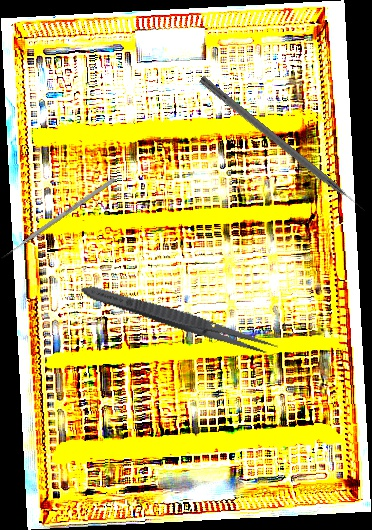Dressing Forceps: (78, 279, 280, 360)
Hook Surgical: (197, 75, 368, 217)
Pusher: (0, 176, 116, 261)
